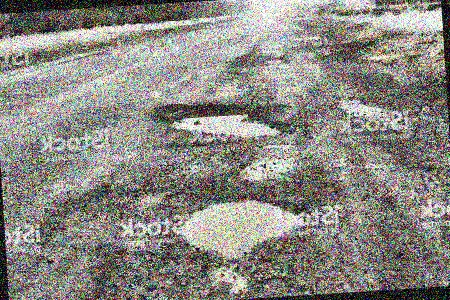pothole: (173, 192, 305, 259), (152, 94, 293, 145)
